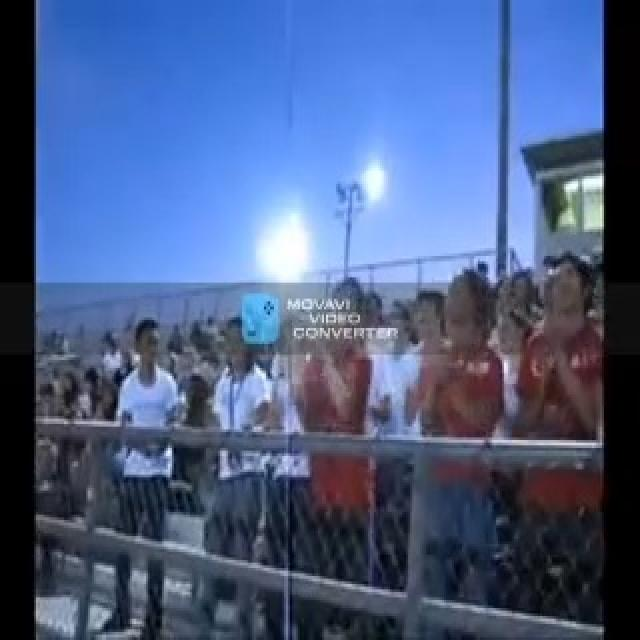non-voilence: (36, 248, 606, 637), (282, 293, 366, 344)
